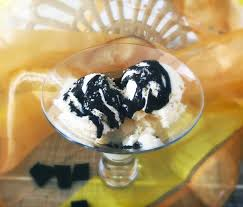ice-cream: (62, 74, 125, 143), (123, 61, 185, 129)
